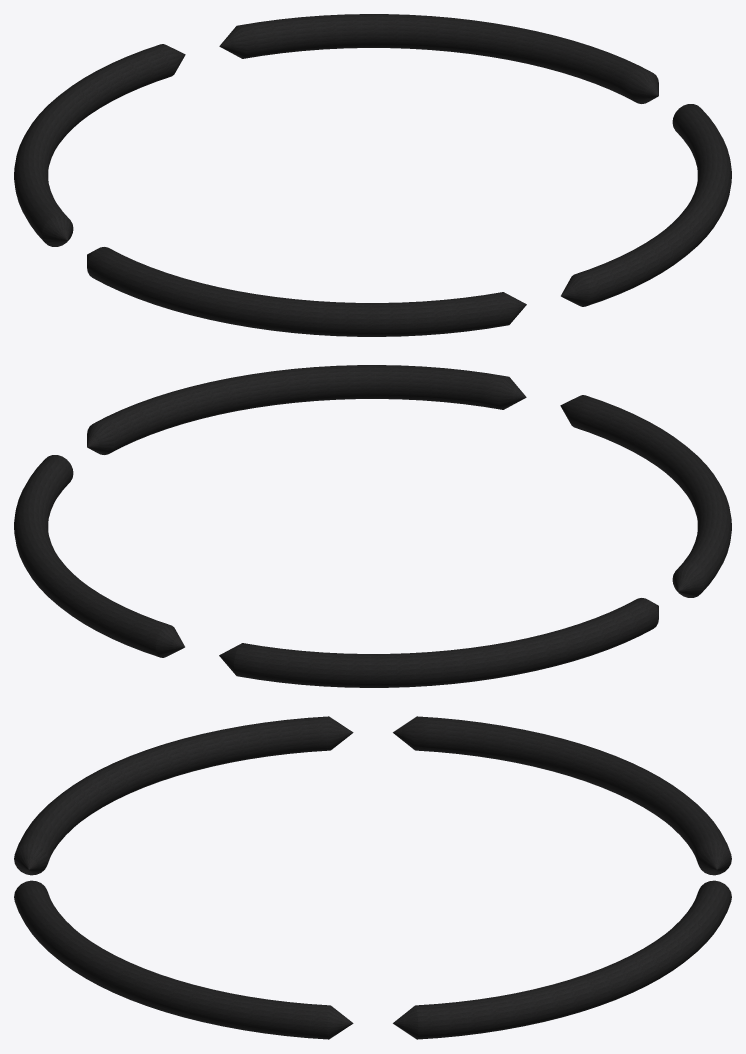
File: RingFive.gltf
3 views of the same model, one above another, from view 1: azimuth 30°, elevation 25°; view 2: azimuth 150°, elevation 25°; view 3: azimuth 270°, elevation 25° (orthographic).
Visible parts, largest first — view 1: Object 2; view 2: Object 2; view 3: Object 2.
Part boxes in pixels (<box>): Object 2: <box>14,14,731,336</box>; Object 2: <box>14,365,731,687</box>; Object 2: <box>14,716,731,1039</box>.
Bounding box in the file's own units: 0.125 × 0.006 × 0.125.
1 material, 1 textured.
